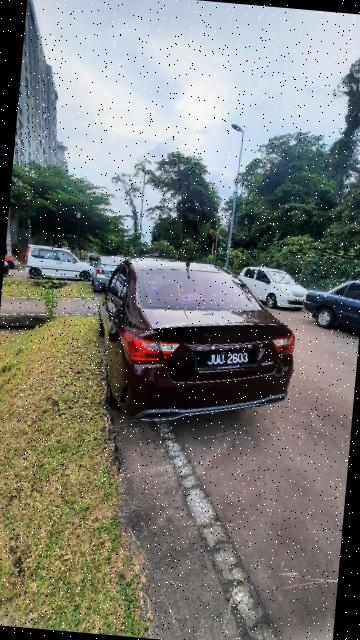License_Plate: (183, 339, 265, 382)
car: (86, 241, 311, 452)
